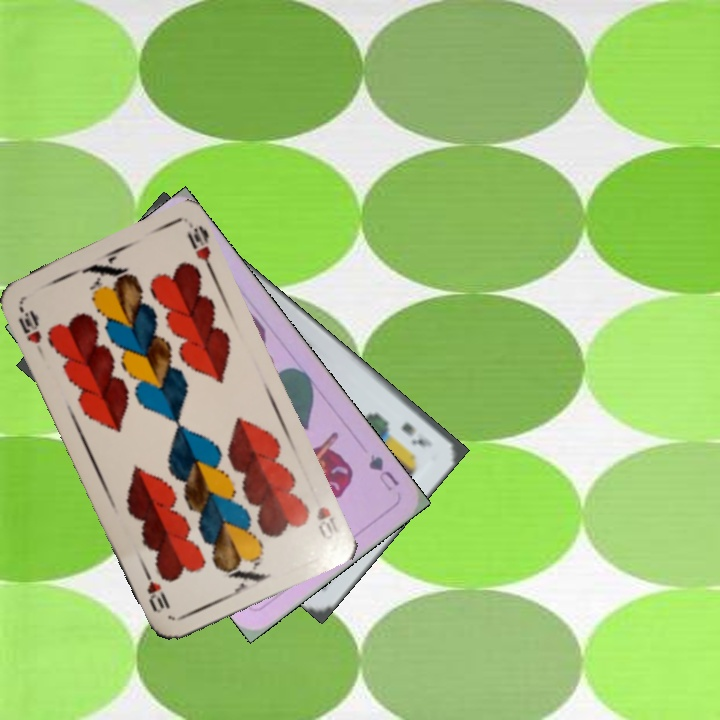EK: (397, 418, 435, 450)
GU: (364, 450, 402, 494)
H10: (14, 302, 47, 357), (312, 502, 341, 543)
